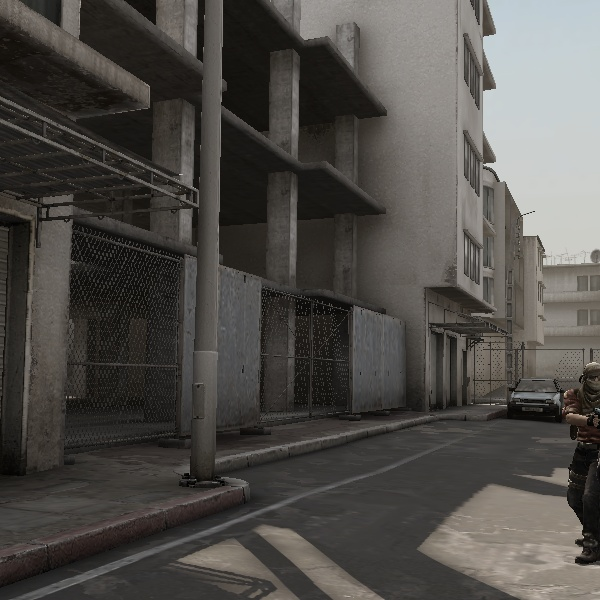t_body: (552, 360, 600, 563)
t_head: (573, 362, 599, 396)
